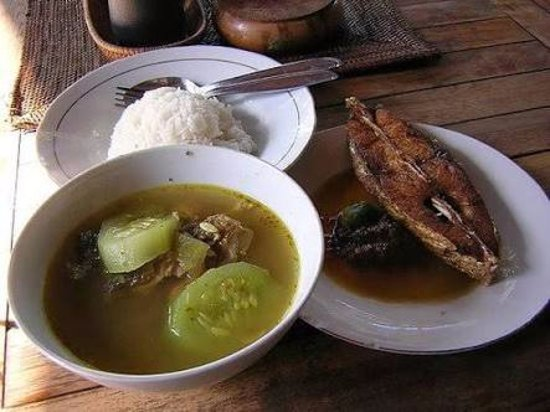buah_sayur_lainnya: (95, 202, 255, 337)
daging: (358, 129, 436, 249)
makanan_berpati: (127, 102, 206, 143)
